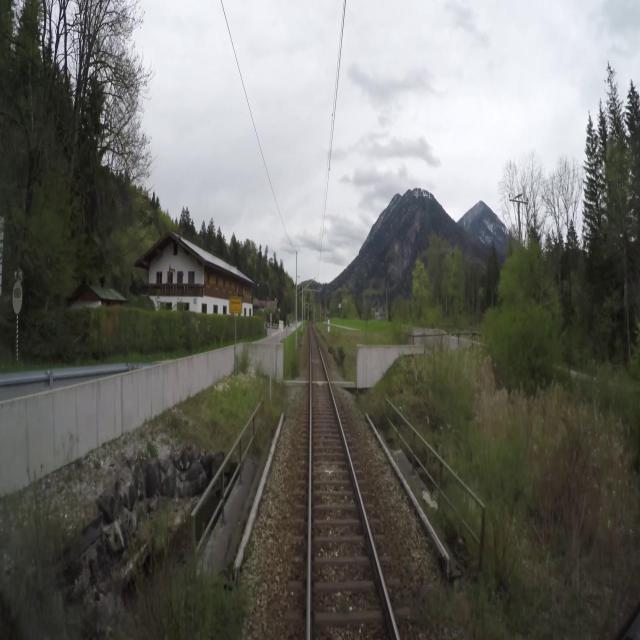rail-track: (311, 328, 396, 639)
